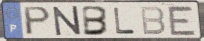B: (82, 5, 111, 37), (139, 6, 167, 36)
E: (167, 5, 199, 37)
L: (112, 7, 137, 35)
N: (52, 5, 83, 37)
P: (23, 5, 53, 37)
